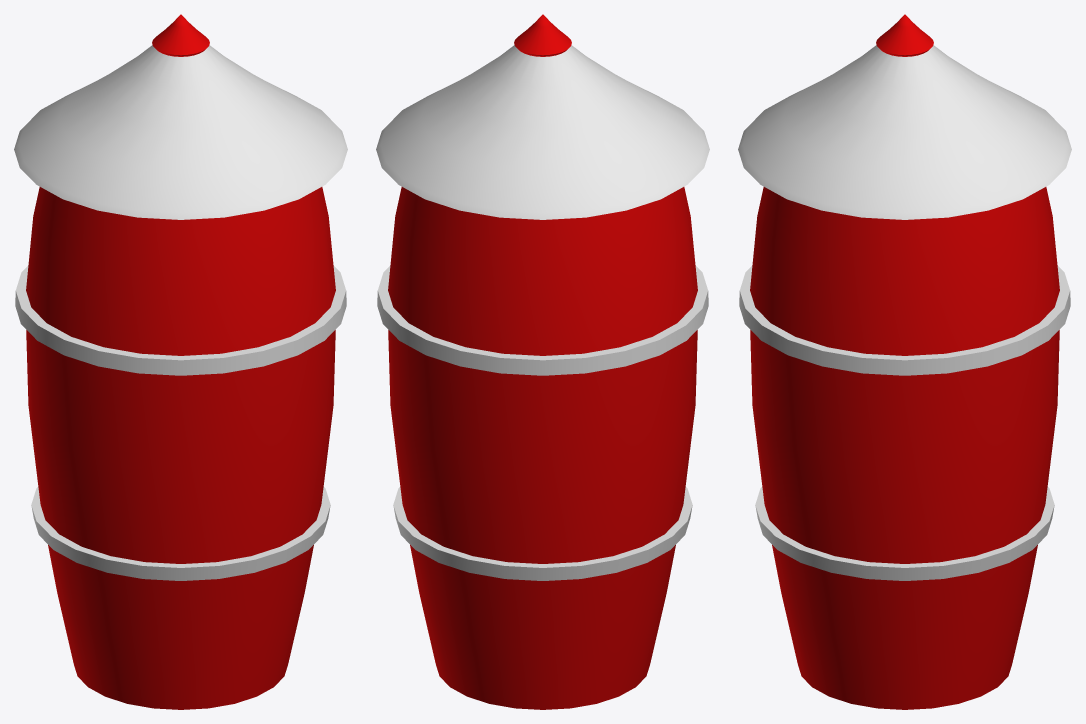
The model's file is SM_Silo01.FBX.
The picture shows the model from 3 angles, left to right: view 1: azimuth 30°, elevation 25°; view 2: azimuth 150°, elevation 25°; view 3: azimuth 270°, elevation 25°; orthographic projection.
Visible parts, largest first — view 1: Cylinder064, Cone001, Object001, ConeTop; view 2: Cylinder064, Cone001, Object001, ConeTop; view 3: Cylinder064, Cone001, Object001, ConeTop.
Boxes of the visible parts, x1=… form: Cylinder064: x1=26, y1=187, x2=335, y2=709; Cone001: x1=14, y1=45, x2=347, y2=219; Object001: x1=15, y1=266, x2=346, y2=580; ConeTop: x1=152, y1=14, x2=209, y2=56; Cylinder064: x1=388, y1=187, x2=697, y2=709; Cone001: x1=376, y1=45, x2=709, y2=219; Object001: x1=377, y1=266, x2=708, y2=580; ConeTop: x1=514, y1=14, x2=571, y2=56; Cylinder064: x1=750, y1=187, x2=1059, y2=709; Cone001: x1=738, y1=45, x2=1071, y2=219; Object001: x1=739, y1=266, x2=1070, y2=580; ConeTop: x1=876, y1=14, x2=933, y2=56.
Size of the model in its own units: 24.19 by 52 by 24.19.
